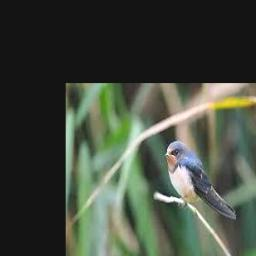Swallow: (166, 141, 239, 219)
